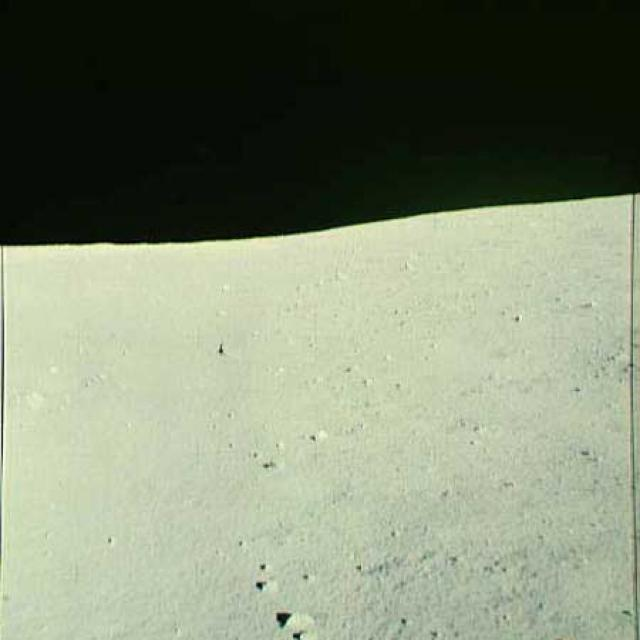rock: (205, 328, 271, 369), (246, 444, 299, 487), (298, 412, 342, 453), (273, 602, 319, 636), (248, 570, 285, 596)
